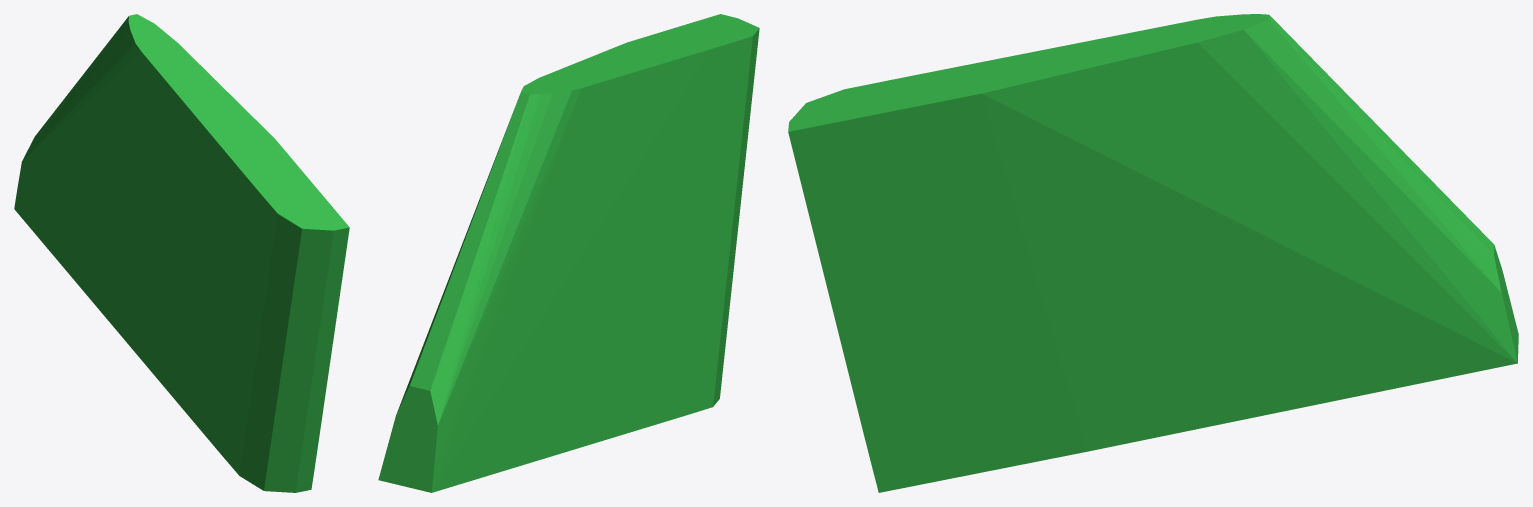
File: converted_Downdraft_Assy_collision_83_37c04cff.obj
3 renders of one model, left to right at view 1: azimuth 30°, elevation 25°; view 2: azimuth 150°, elevation 25°; view 3: azimuth 270°, elevation 25°, orthographic. The views are drawn at different scales.
Bounding box in the file's own units: 0.0262 × 0.1691 × 0.2426.
